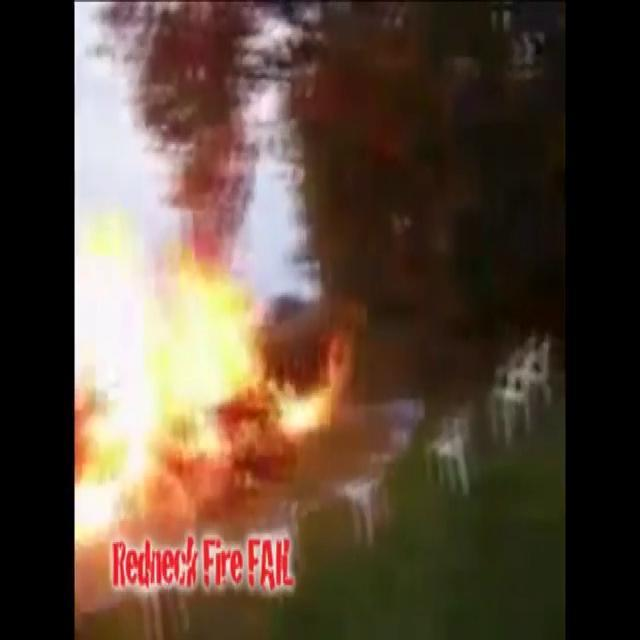Fire: (76, 242, 355, 594)
